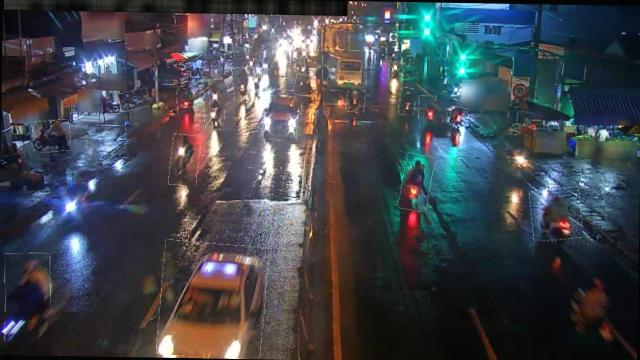Bike: (4, 253, 52, 343), (530, 187, 583, 241), (399, 152, 433, 210), (169, 134, 200, 185), (30, 118, 70, 152), (177, 82, 202, 116), (204, 96, 226, 130), (232, 67, 252, 102), (119, 88, 150, 110), (208, 78, 228, 110), (418, 96, 437, 128), (295, 74, 316, 95), (346, 89, 365, 112), (400, 88, 416, 115), (450, 107, 468, 126), (250, 67, 262, 93)
Bus: (321, 49, 367, 90)
Car: (158, 240, 268, 358), (263, 88, 299, 140)
